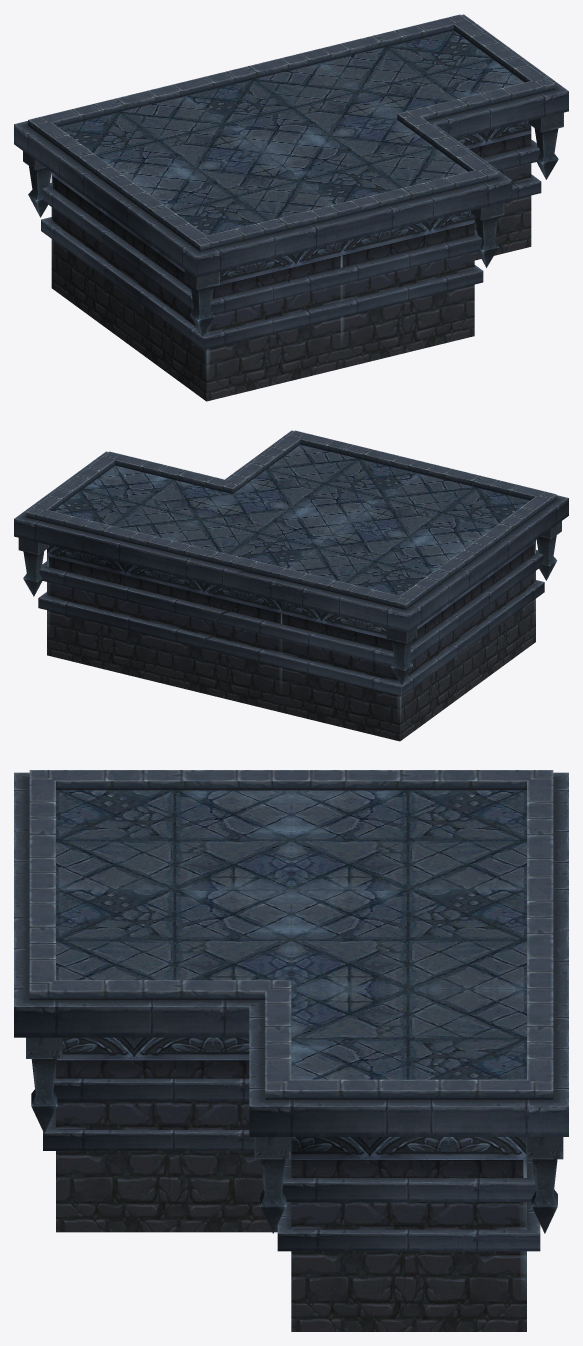
The model's file is Ice_platform06.FBX.
The picture shows the model from 3 angles, top to bottom: view 1: azimuth 30°, elevation 25°; view 2: azimuth 150°, elevation 25°; view 3: azimuth 270°, elevation 25°; orthographic projection. The views are drawn at different scales.
Parts seen in each view (by area): view 1: Group008; view 2: Group008; view 3: Group008.
Part boxes in pixels (bbox=[...]): Group008: bbox=[14, 14, 568, 401]; Group008: bbox=[14, 430, 568, 741]; Group008: bbox=[14, 770, 568, 1331].
Size of the model in its own units: 1527 by 537 by 1072.
